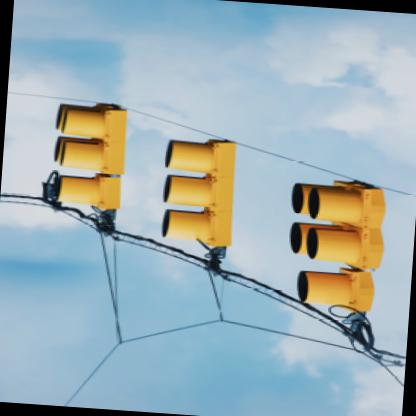trafficlight: (284, 176, 388, 316), (160, 132, 242, 250), (54, 100, 130, 215)
